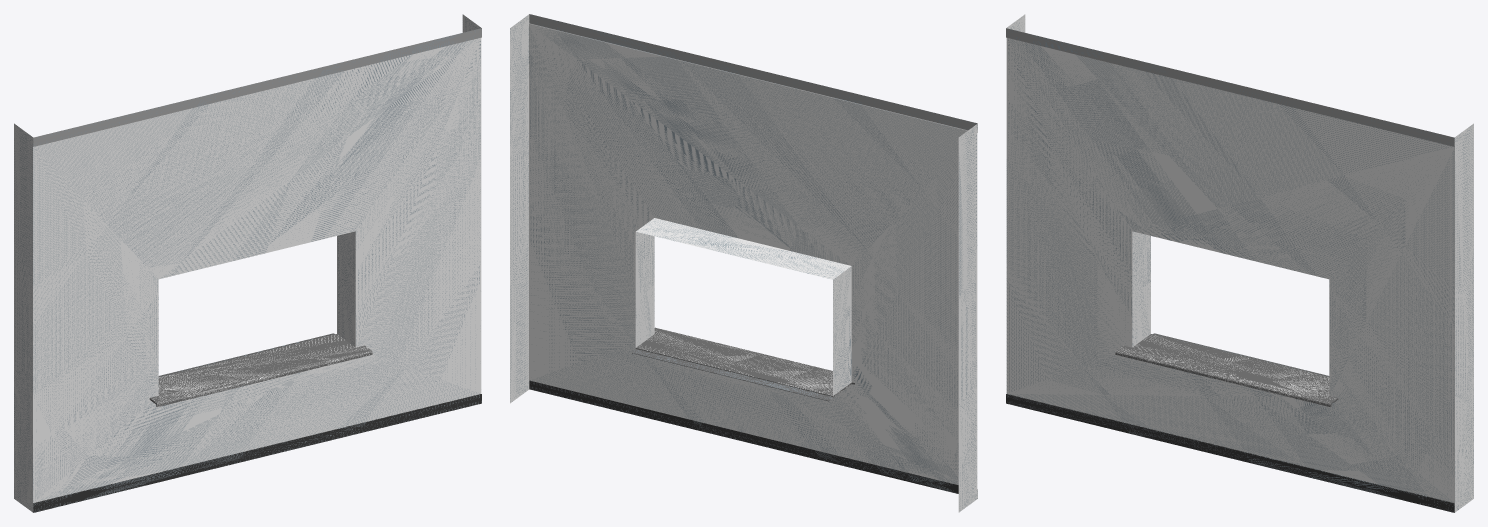
The model's file is WindowBlock_os_plinth_[500x400]_220x124x[090].dae.
The picture shows the model from 3 angles, left to right: view 1: azimuth 30°, elevation 25°; view 2: azimuth 150°, elevation 25°; view 3: azimuth 330°, elevation 25°; orthographic projection.
Visible parts, largest first — view 1: group_2 (×4), group_1; view 2: group_2 (×4), group_1 (×2); view 3: group_2 (×4), group_1.
Part boxes in pixels (bbox=[...]): group_2 (×4): bbox=[14, 14, 481, 512]; group_1: bbox=[149, 334, 372, 406]; group_2 (×4): bbox=[510, 14, 977, 512]; group_1 (×2): bbox=[632, 327, 854, 401]; group_2 (×4): bbox=[1006, 14, 1473, 512]; group_1: bbox=[1115, 334, 1337, 406].
Size of the model in its own units: 197 by 23.03 by 157.
